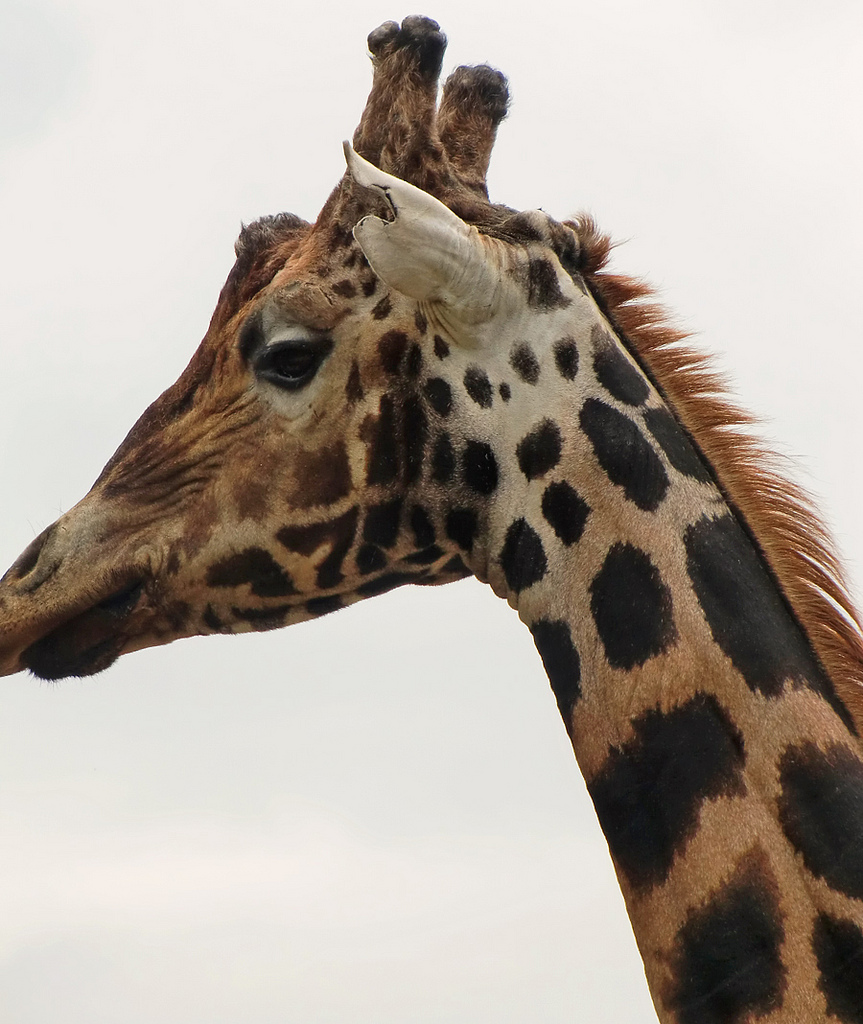giraffe: (9, 21, 861, 964)
